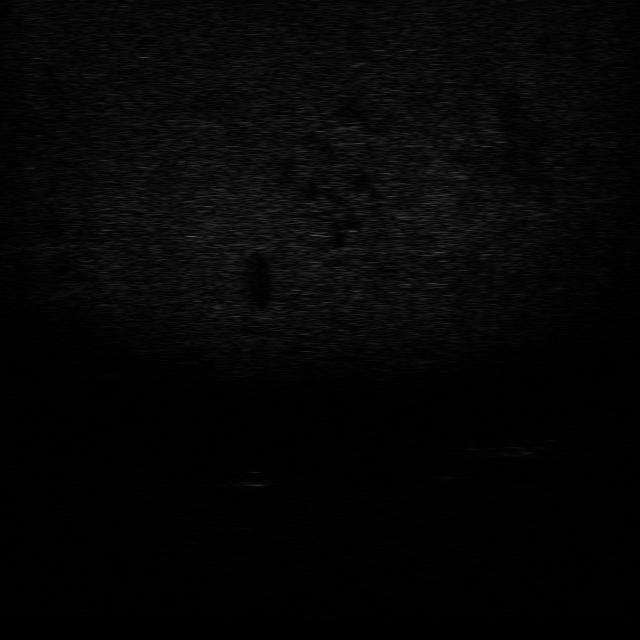ball: (230, 467, 278, 489)
human body: (454, 436, 555, 461)
